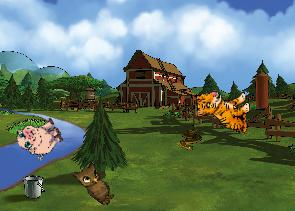owl: (69, 157, 123, 207)
pig: (12, 110, 67, 164)
tiger: (195, 87, 252, 136)
